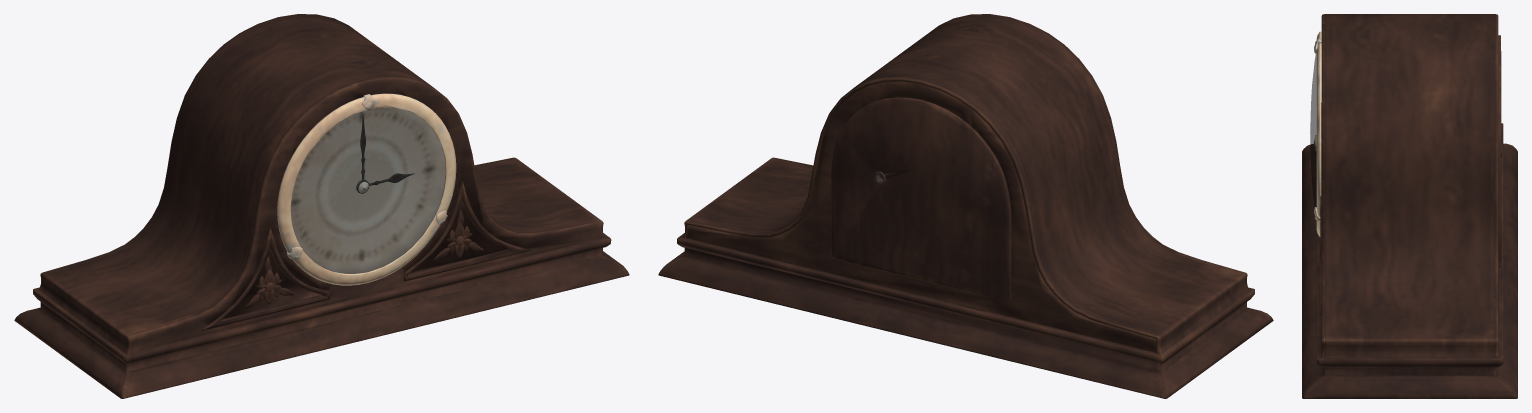
Rendered from mantel_clock_01.glb.
3 views of the same model, side by side, from view 1: azimuth 30°, elevation 25°; view 2: azimuth 150°, elevation 25°; view 3: azimuth 270°, elevation 25° (orthographic).
Parts seen in each view (by area): view 1: mantel_clock_01, mantel_clock_01_glass; view 2: mantel_clock_01; view 3: mantel_clock_01, mantel_clock_01_glass.
Boxes of the visible parts, <box> form: mantel_clock_01: <box>14,14,629,398</box>; mantel_clock_01_glass: <box>291,108,445,273</box>; mantel_clock_01: <box>658,14,1273,398</box>; mantel_clock_01: <box>1302,14,1517,398</box>; mantel_clock_01_glass: <box>1310,53,1316,207</box>.
Size of the model in its own units: 0.3423 by 0.1604 by 0.1261.
2 materials, 2 textured.
